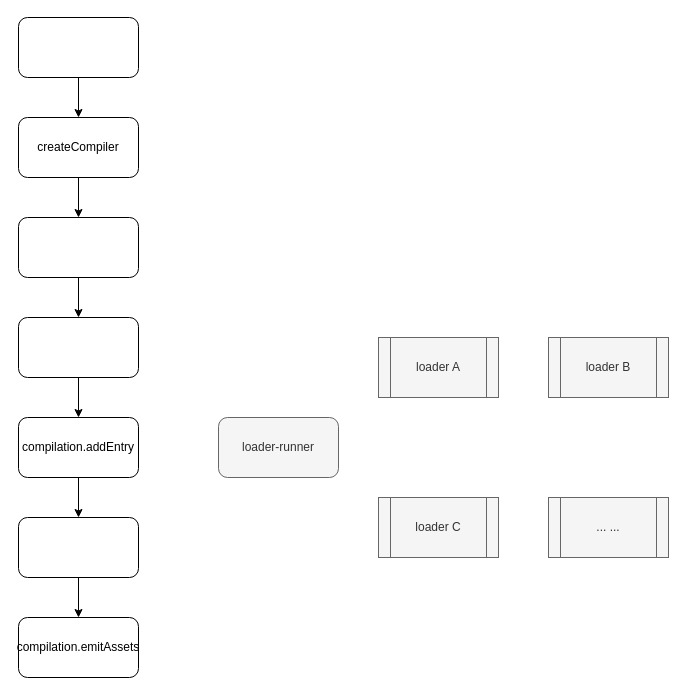
Some shapes in this 686 by 695 pixel diagram are drawn without their labels. The box of each missing label's shape, as (x1, y1, x2, y2) in pixels:
compilation.seal: (18, 516, 138, 578)
compiler.compile: (18, 216, 138, 278)
hook.make: (18, 316, 138, 378)
new Webpack: (18, 16, 138, 78)
